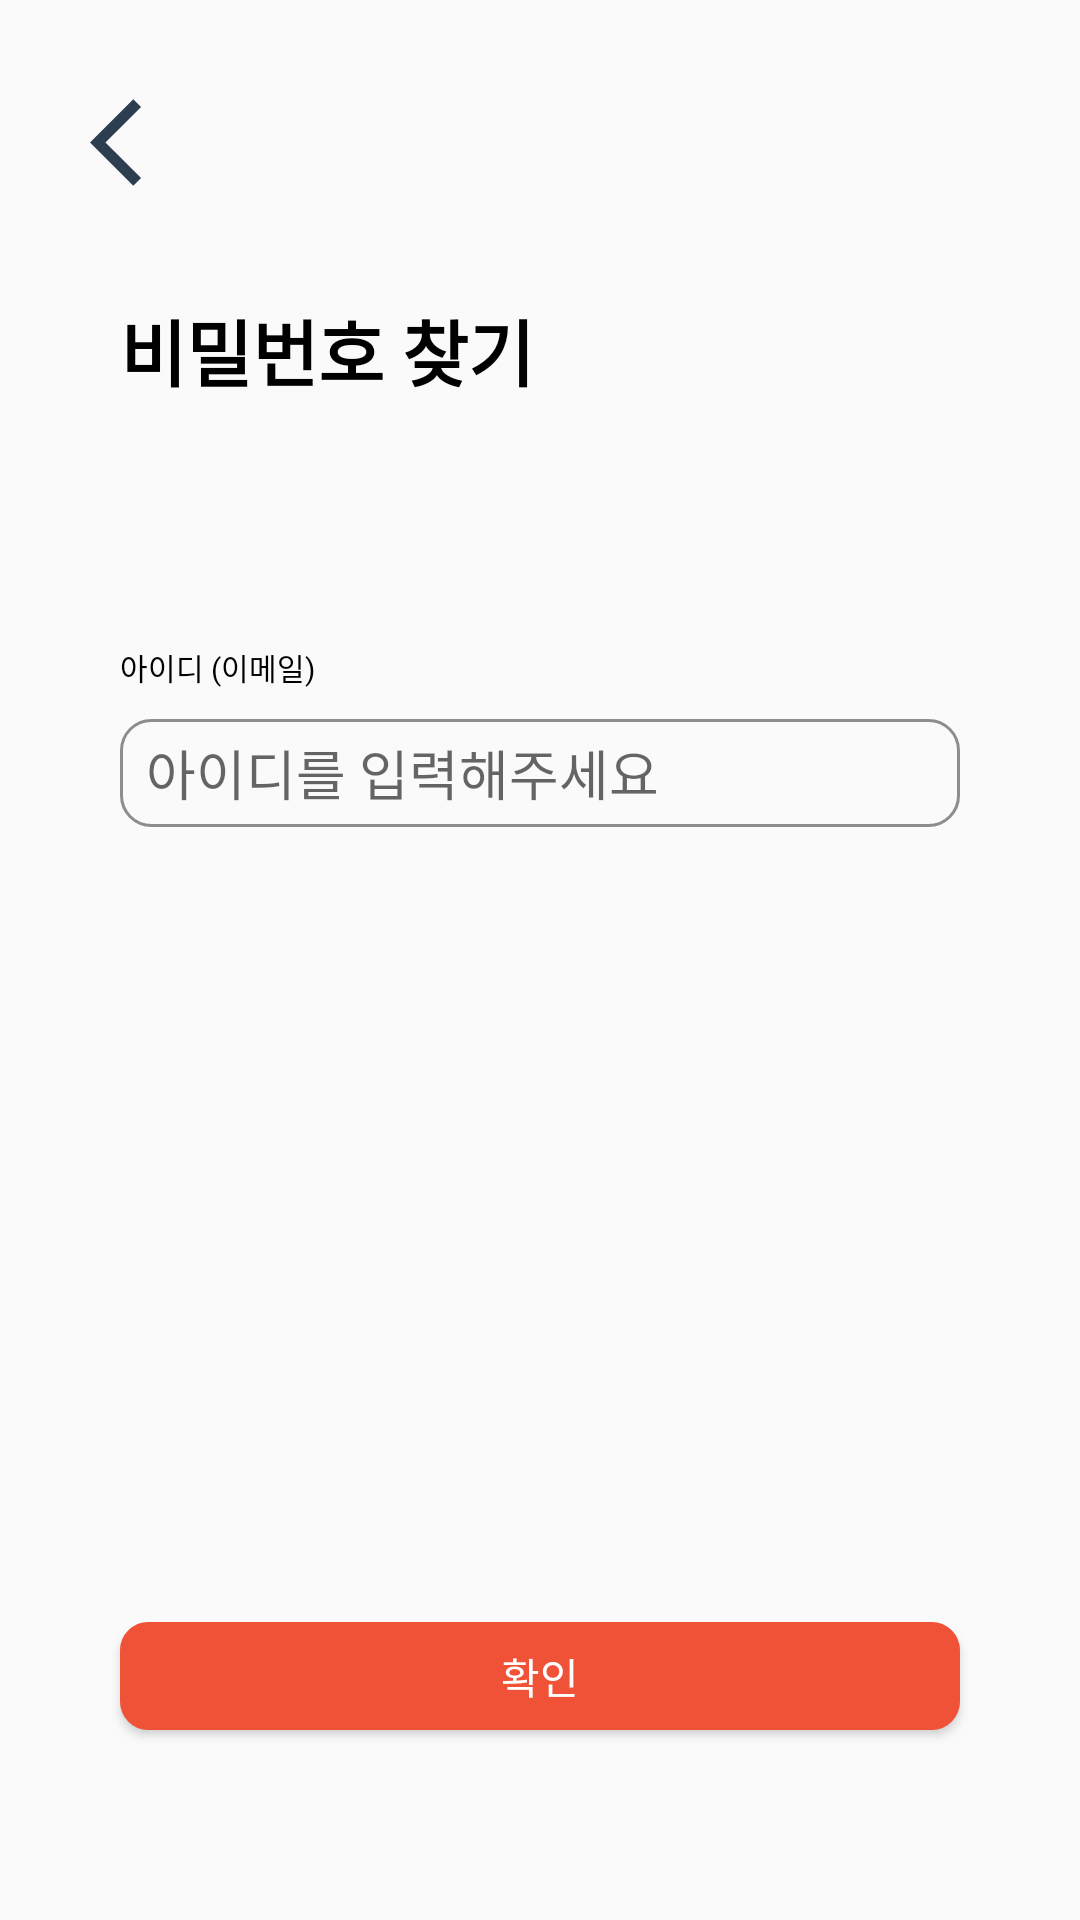

Where to tap for icons on this 1080x1920 app screen, as (x=x, y=y):
arrow back: (x=115, y=142)
